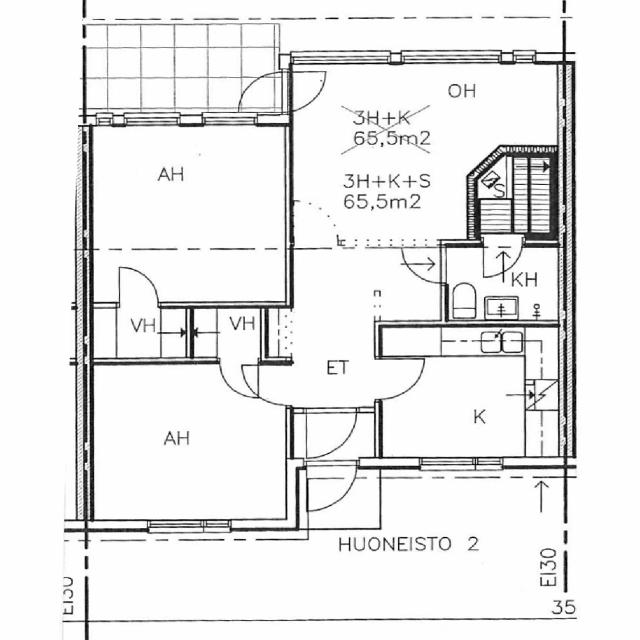door: (307, 462, 356, 512), (286, 202, 339, 246), (306, 408, 353, 457), (282, 70, 334, 111), (238, 70, 290, 111), (375, 360, 425, 400), (243, 366, 292, 405), (220, 358, 258, 398), (120, 267, 156, 308), (485, 240, 521, 280), (405, 249, 447, 282)
